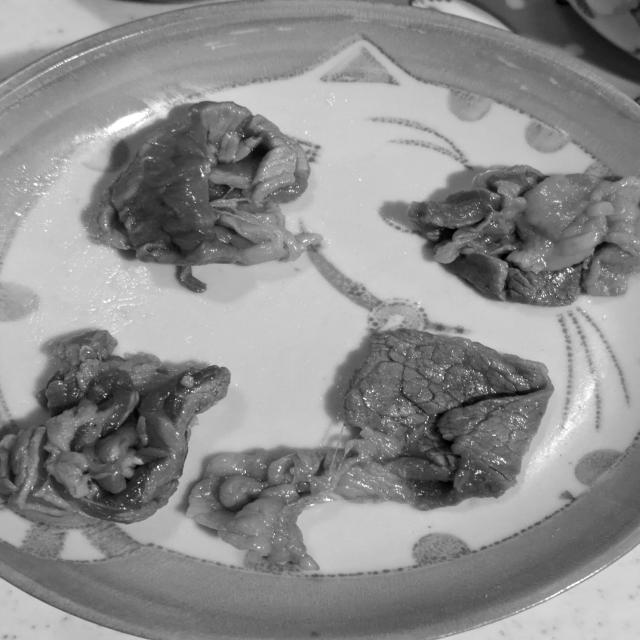NG undercooked beef,: (177, 326, 574, 581), (0, 322, 256, 538), (70, 93, 330, 298), (396, 161, 640, 318)
